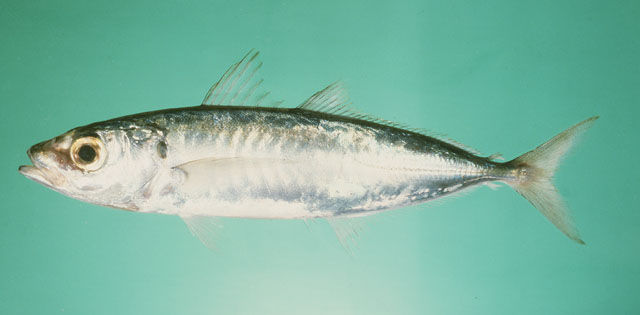fish: (19, 49, 602, 247)
